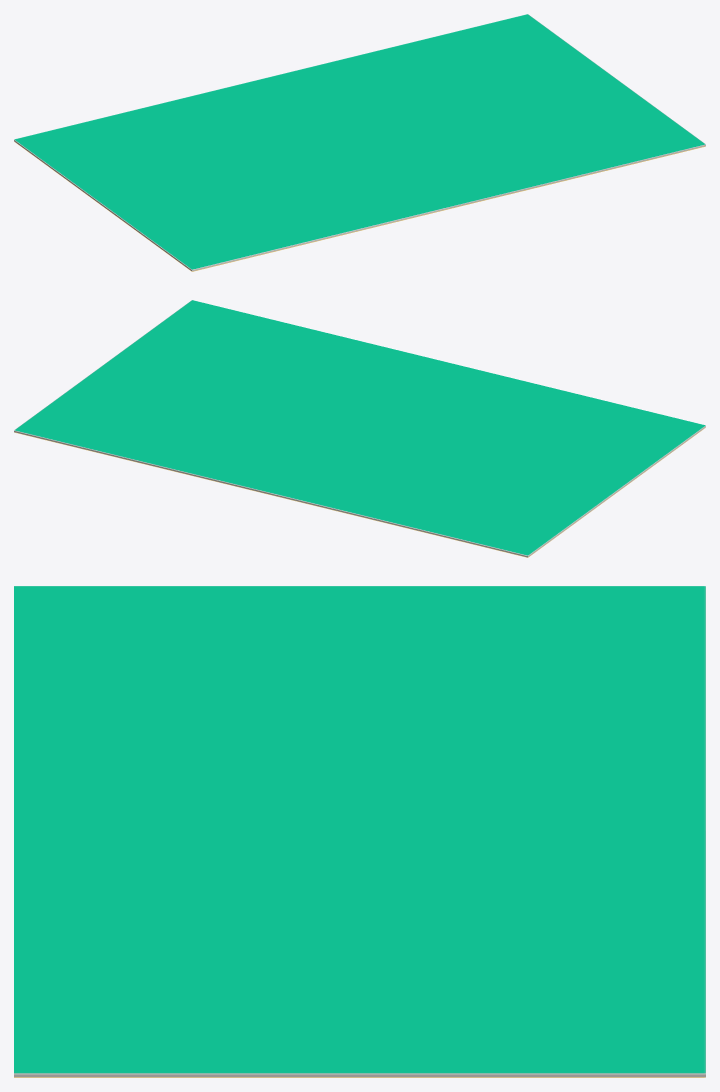
The model's file is paridad-arte-primera-base-arrastrada.glb.
3 renders of one model, top to bottom at view 1: azimuth 30°, elevation 25°; view 2: azimuth 150°, elevation 25°; view 3: azimuth 270°, elevation 25°, orthographic. The views are drawn at different scales.
Parts seen in each view (by area): view 1: mesh_1, mesh_4, mesh_0, mesh_3, mesh_2; view 2: mesh_1, mesh_4, mesh_0, mesh_3, mesh_2; view 3: mesh_1, mesh_4, mesh_3.
Boxes of the visible parts, x1=… form: mesh_1: x1=14, y1=77, x2=448, y2=269; mesh_4: x1=271, y1=14, x2=705, y2=206; mesh_0: x1=14, y1=139, x2=448, y2=271; mesh_3: x1=449, y1=144, x2=705, y2=208; mesh_2: x1=14, y1=141, x2=448, y2=271; mesh_1: x1=271, y1=363, x2=705, y2=555; mesh_4: x1=14, y1=300, x2=448, y2=492; mesh_0: x1=271, y1=425, x2=705, y2=557; mesh_3: x1=14, y1=430, x2=270, y2=494; mesh_2: x1=271, y1=427, x2=705, y2=557; mesh_1: x1=14, y1=586, x2=705, y2=829; mesh_4: x1=14, y1=830, x2=705, y2=1073; mesh_3: x1=14, y1=831, x2=705, y2=1076.
Size of the model in its own units: 100 by 0.41 by 60.
4 materials, 2 textured.
